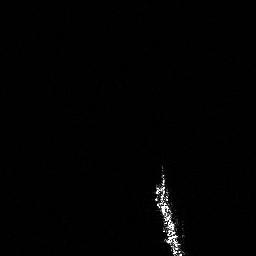ship: (150, 162, 188, 256)
